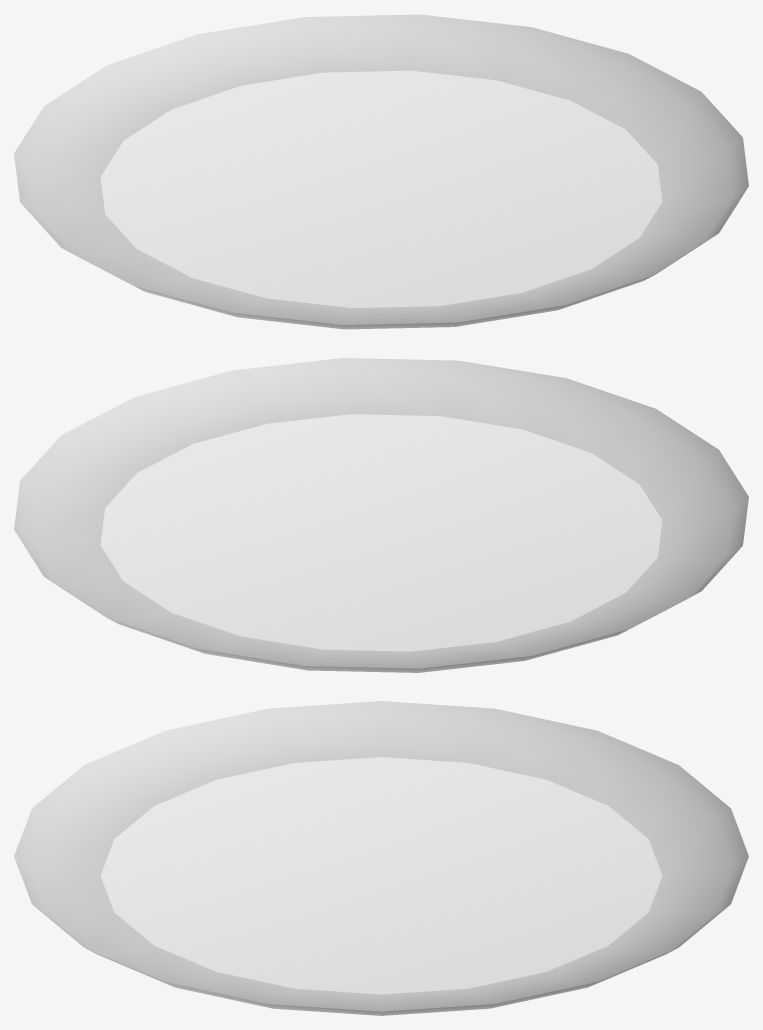
The model's file is Lamp_02.FBX.
3 views of the same model, one above another, from view 1: azimuth 30°, elevation 25°; view 2: azimuth 150°, elevation 25°; view 3: azimuth 270°, elevation 25° (orthographic).
Visible parts, largest first — view 1: Lamp_02; view 2: Lamp_02; view 3: Lamp_02.
Part boxes in pixels (<box>): Lamp_02: <box>14,14,748,329</box>; Lamp_02: <box>14,358,748,672</box>; Lamp_02: <box>14,701,748,1015</box>.
Size of the model in its own units: 0.1697 by 0.00496 by 0.1697.
